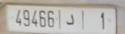1: (99, 11, 108, 30)
4: (31, 9, 38, 27), (15, 9, 22, 26)
6: (47, 10, 55, 28), (39, 9, 46, 29)
9: (22, 9, 30, 27)
d: (65, 12, 75, 28)
